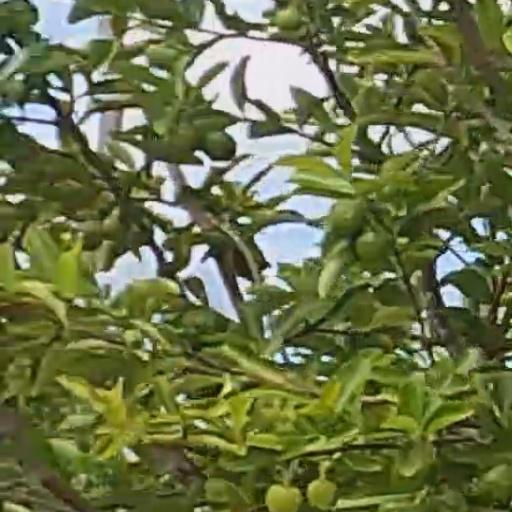acerola_verde: (305, 478, 339, 508), (265, 484, 299, 510)
